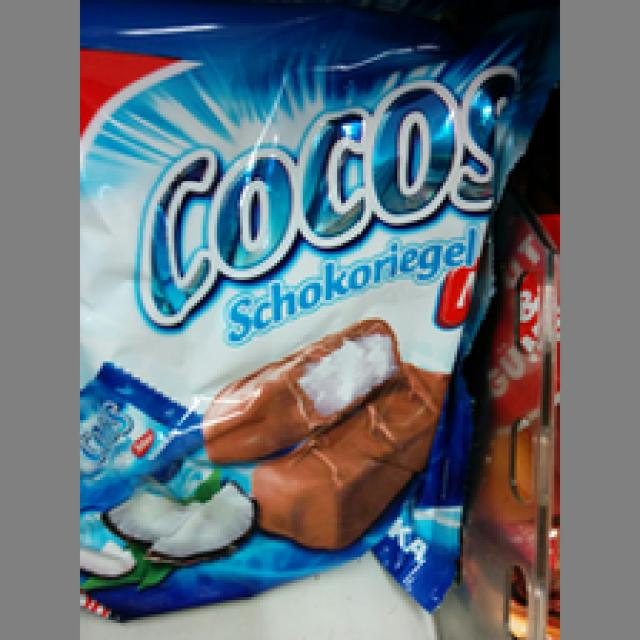groceries: (80, 6, 520, 603)
